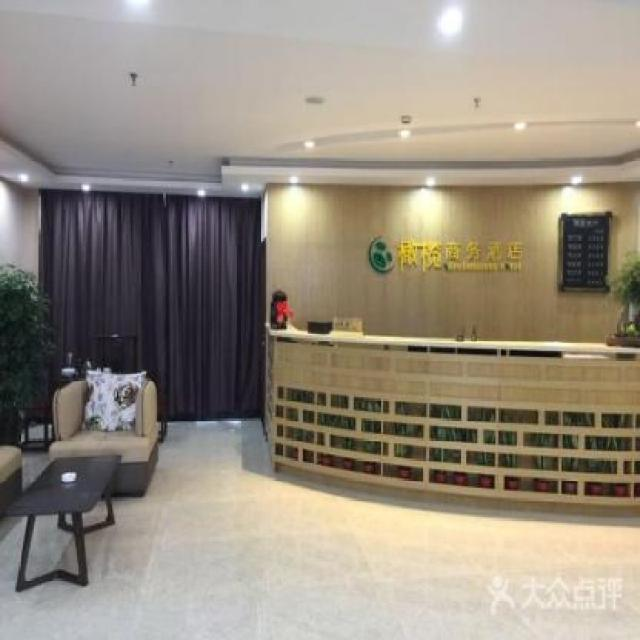frontdesk: (254, 294, 640, 528)
